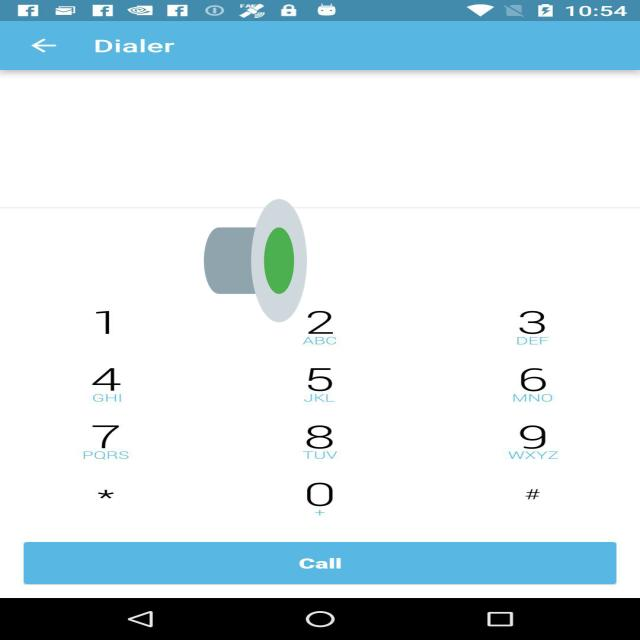social proof: (204, 146, 307, 374)
